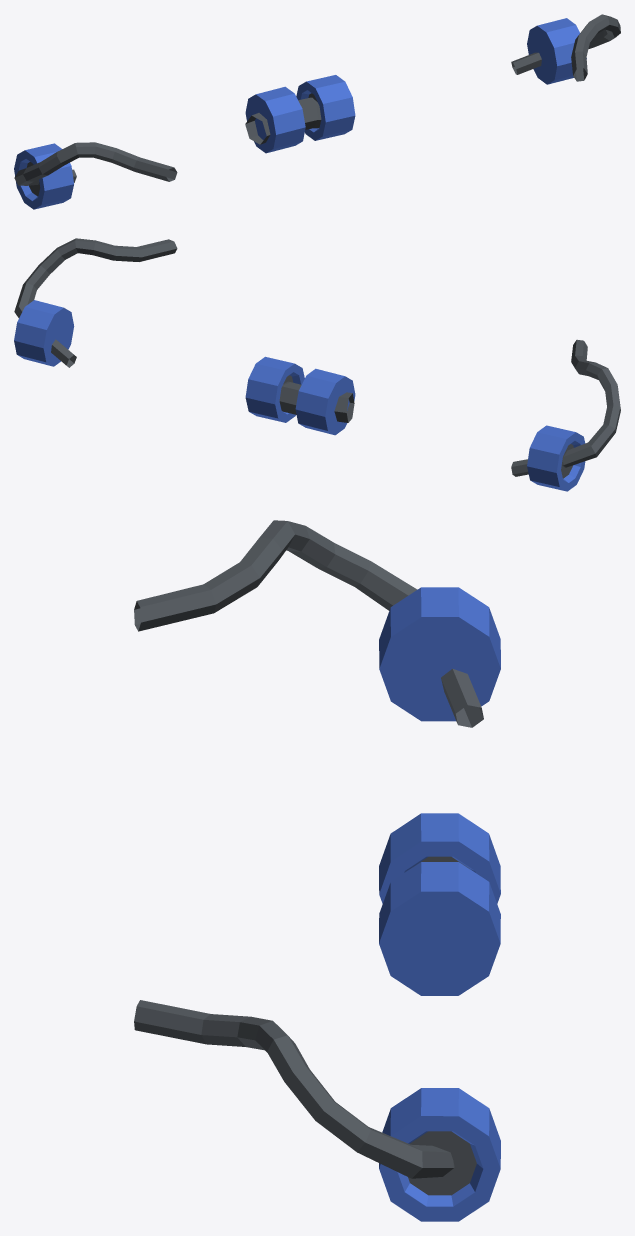
Rendered from Dropship_01_Cables_Blue.fbx.
3 views of the same model, one above another, from view 1: azimuth 30°, elevation 25°; view 2: azimuth 150°, elevation 25°; view 3: azimuth 270°, elevation 25° (orthographic). The views are drawn at different scales.
Parts seen in each view (by area): view 1: Dropship_01_Cables_Blue; view 2: Dropship_01_Cables_Blue; view 3: Dropship_01_Cables_Blue.
Boxes of the visible parts, x1=… form: Dropship_01_Cables_Blue: x1=14, y1=14, x2=620, y2=209; Dropship_01_Cables_Blue: x1=14, y1=238, x2=620, y2=491; Dropship_01_Cables_Blue: x1=134, y1=520, x2=500, y2=1221.
Bounding box in the file's own units: 952 × 138 × 255.
1 material, 1 textured.
